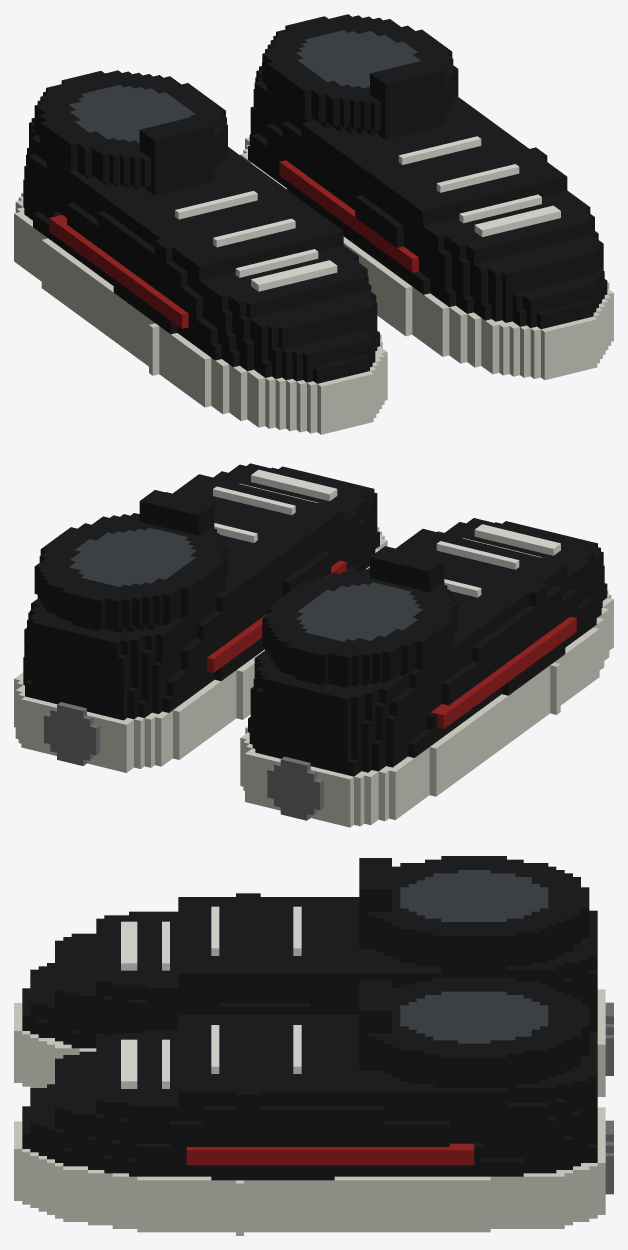
File: heel_wheel_sneakers.glb
The picture shows the model from 3 angles, top to bottom: view 1: azimuth 30°, elevation 25°; view 2: azimuth 150°, elevation 25°; view 3: azimuth 270°, elevation 25°; orthographic projection. The views are drawn at different scales.
Parts seen in each view (by area): view 1: heel_wheel_sneakers:compound; view 2: heel_wheel_sneakers:compound; view 3: heel_wheel_sneakers:compound.
Part boxes in pixels (left/top/right/bottom): heel_wheel_sneakers:compound: left=14, top=14, right=613, bottom=434; heel_wheel_sneakers:compound: left=14, top=463, right=613, bottom=827; heel_wheel_sneakers:compound: left=14, top=856, right=613, bottom=1235.
Size of the model in its own units: 0.248 by 0.104 by 0.292.
